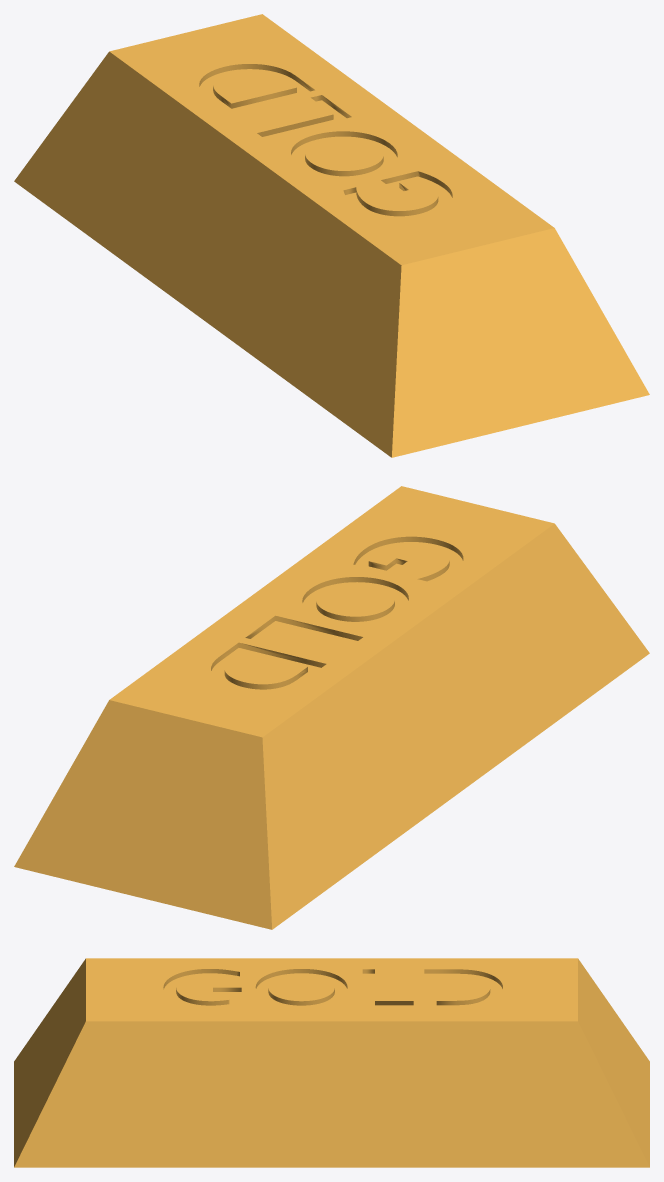
The model's file is GoldBar.glb.
3 views of the same model, one above another, from view 1: azimuth 30°, elevation 25°; view 2: azimuth 150°, elevation 25°; view 3: azimuth 270°, elevation 25° (orthographic). The views are drawn at different scales.
Parts seen in each view (by area): view 1: Cube; view 2: Cube; view 3: Cube.
Boxes of the visible parts, bbox=[...] form: Cube: bbox=[14, 14, 649, 457]; Cube: bbox=[14, 486, 649, 929]; Cube: bbox=[14, 958, 649, 1167].
Size of the model in its own units: 2 by 1.1 by 5.07.
